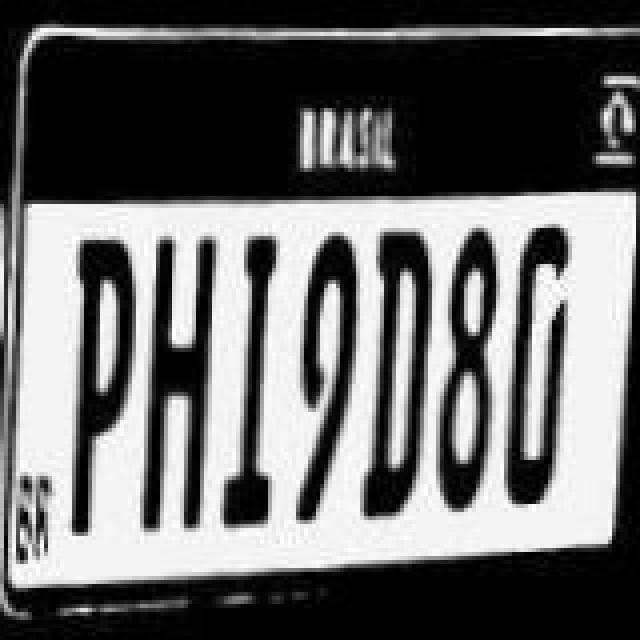8: (432, 230, 508, 522)
9: (292, 228, 368, 528)
D: (362, 230, 438, 522), (500, 226, 572, 510)
H: (140, 234, 224, 542)
I: (220, 234, 296, 530)
P: (64, 234, 140, 534)
